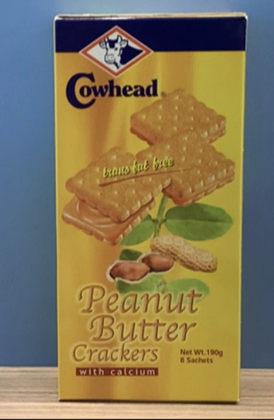crackers_150g: (64, 30, 225, 381)
